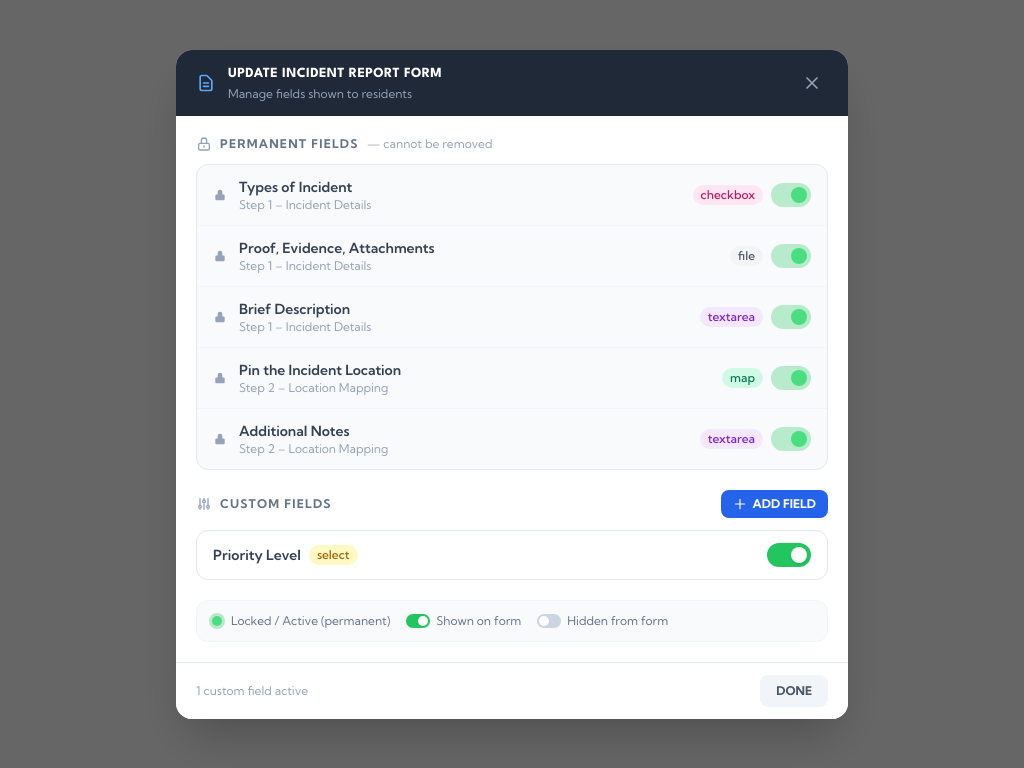
add new field › shows the Add Field form when Add Custom Field button is clicked
The image size is (1024, 768).
Expected: the text "Priority Level" is shown, [213,544,301,564]
Click the button "Add Field": (774,504) [721,490,828,518]
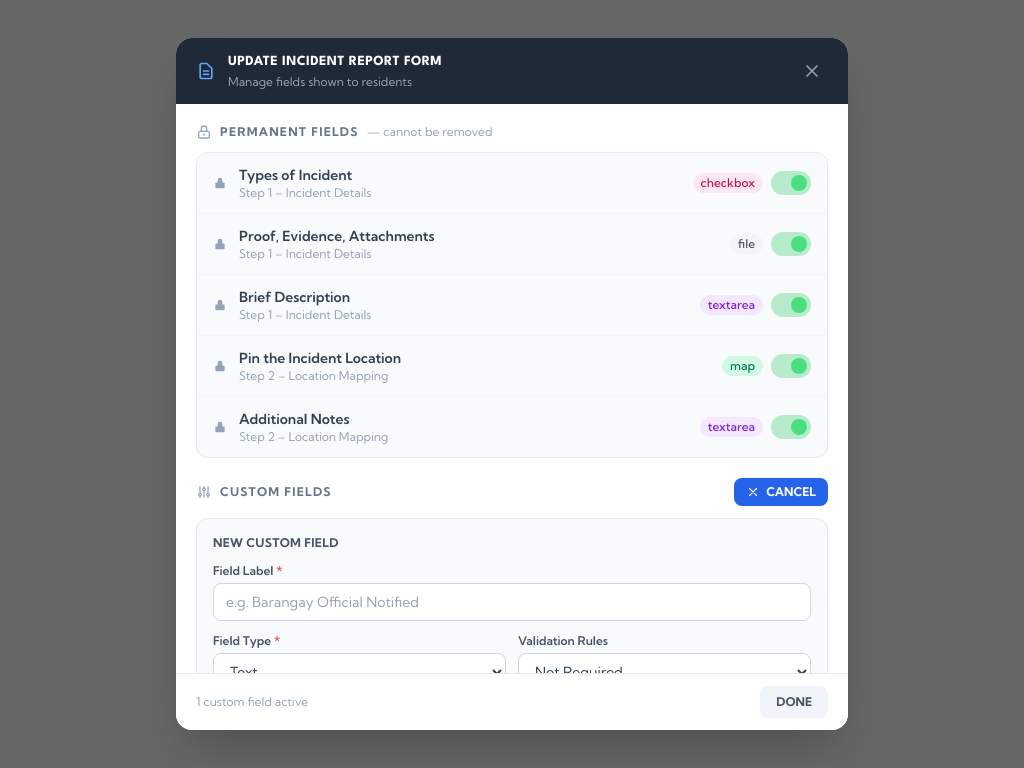
Result: the field with placeholder "e.g. Barangay Official Notified" is shown at [213,583,811,621]
